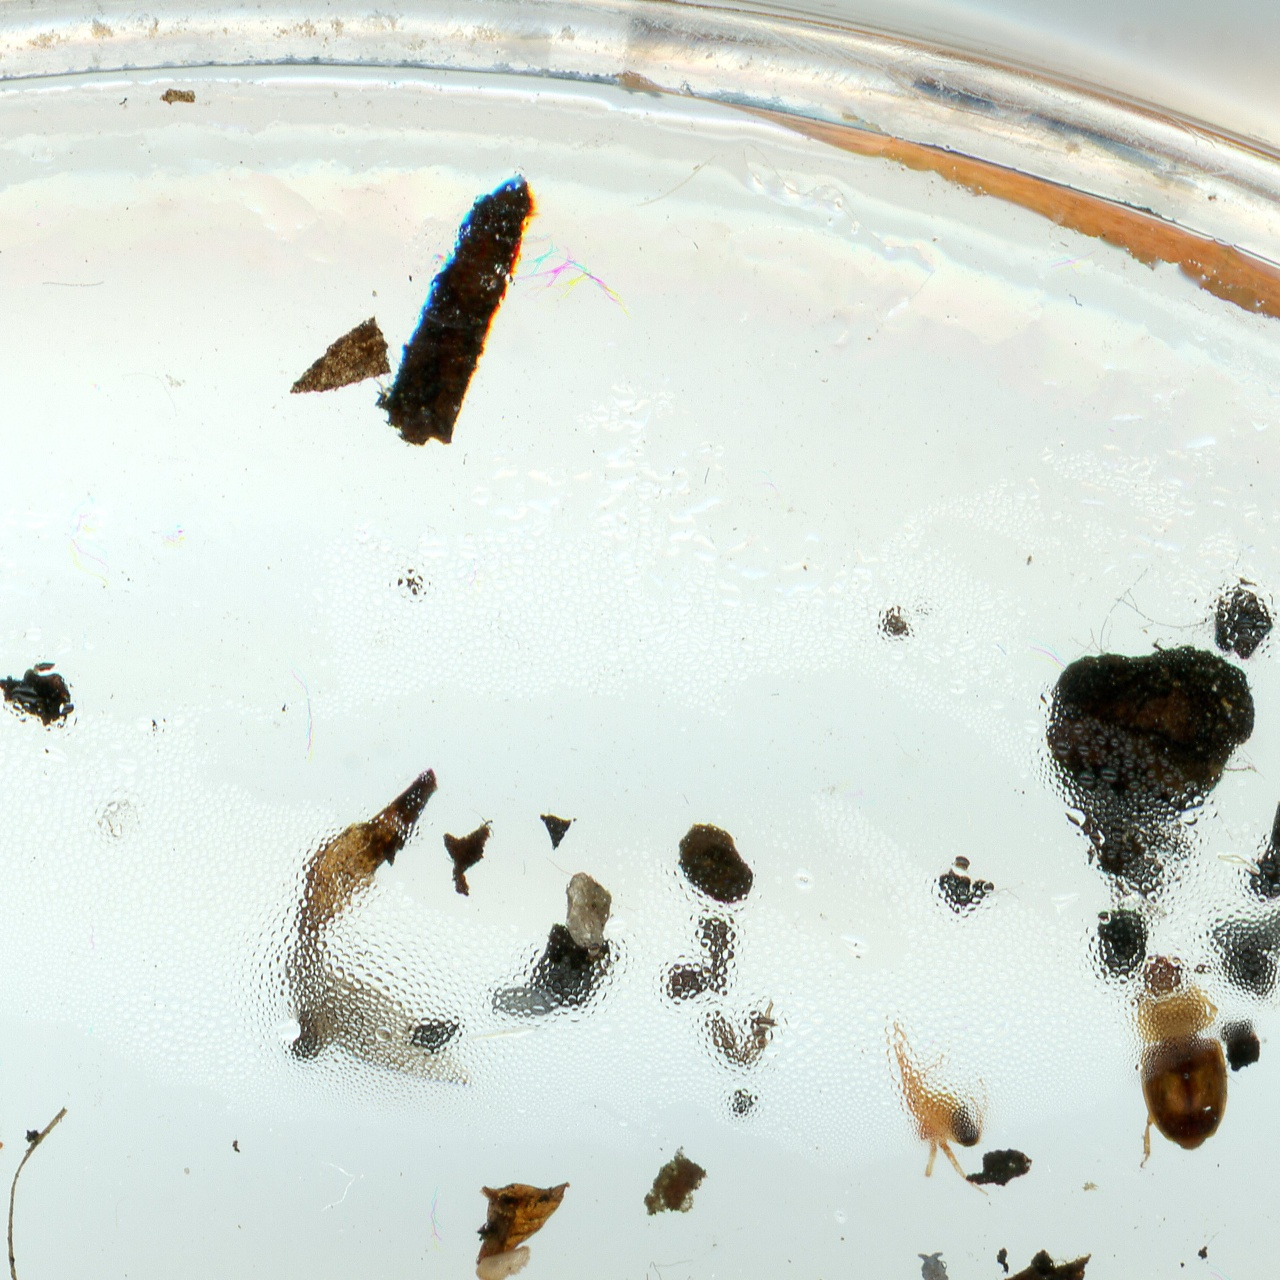arthropod: (876, 1010, 1003, 1201), (1129, 945, 1232, 1177), (488, 987, 561, 1017), (912, 1246, 961, 1280)
